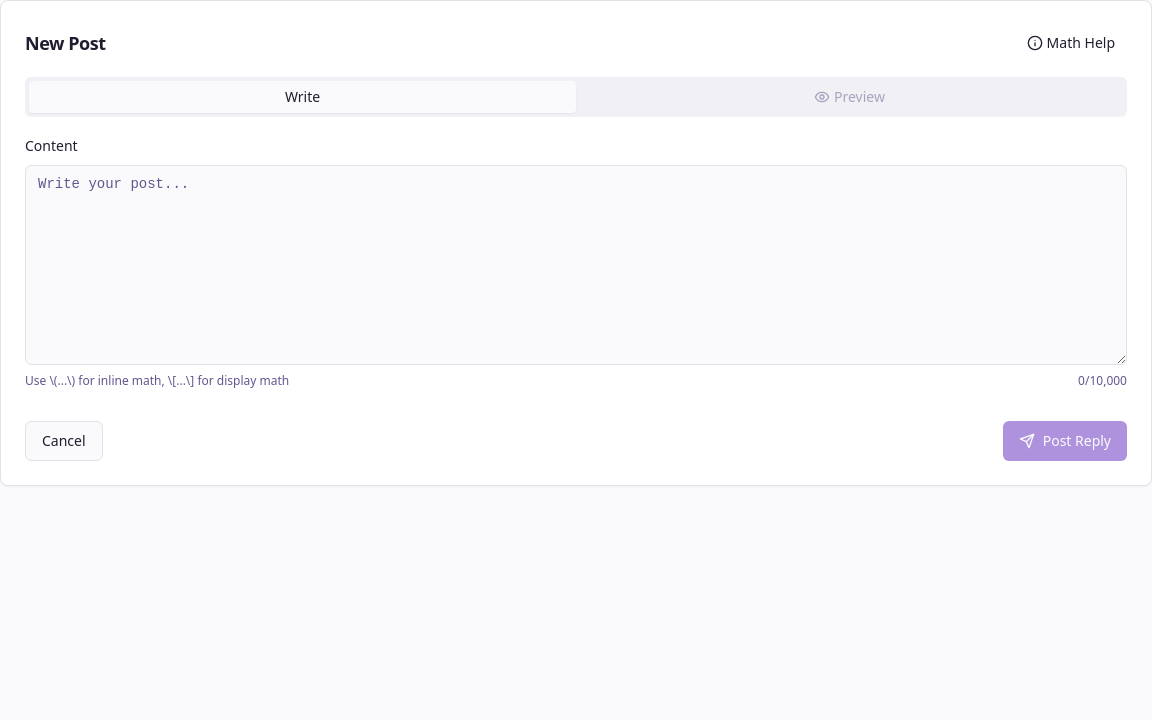
Test: PostComposer › shows math help when math help button is clicked
Click the button "Math Help": (1071, 43) [1015,25,1127,61]
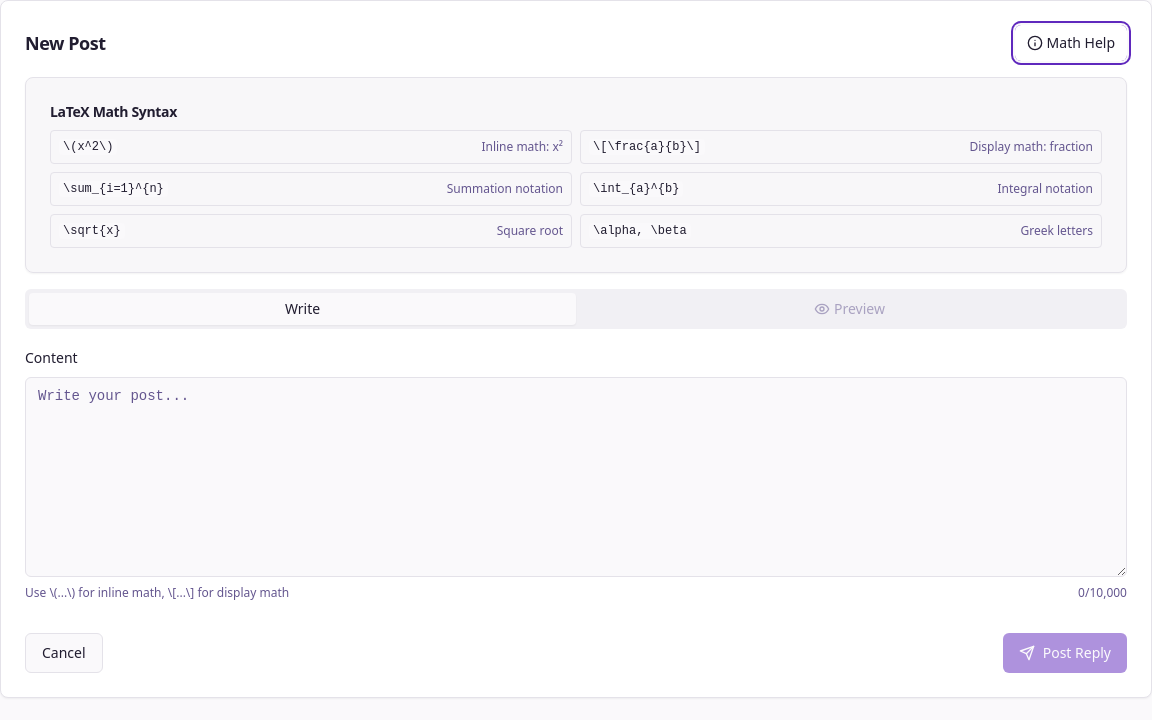
Result: the text "LaTeX Math Syntax" is shown at [50,102,177,121]
Result: the text "Inline math: x²" is shown at [481,139,563,155]
